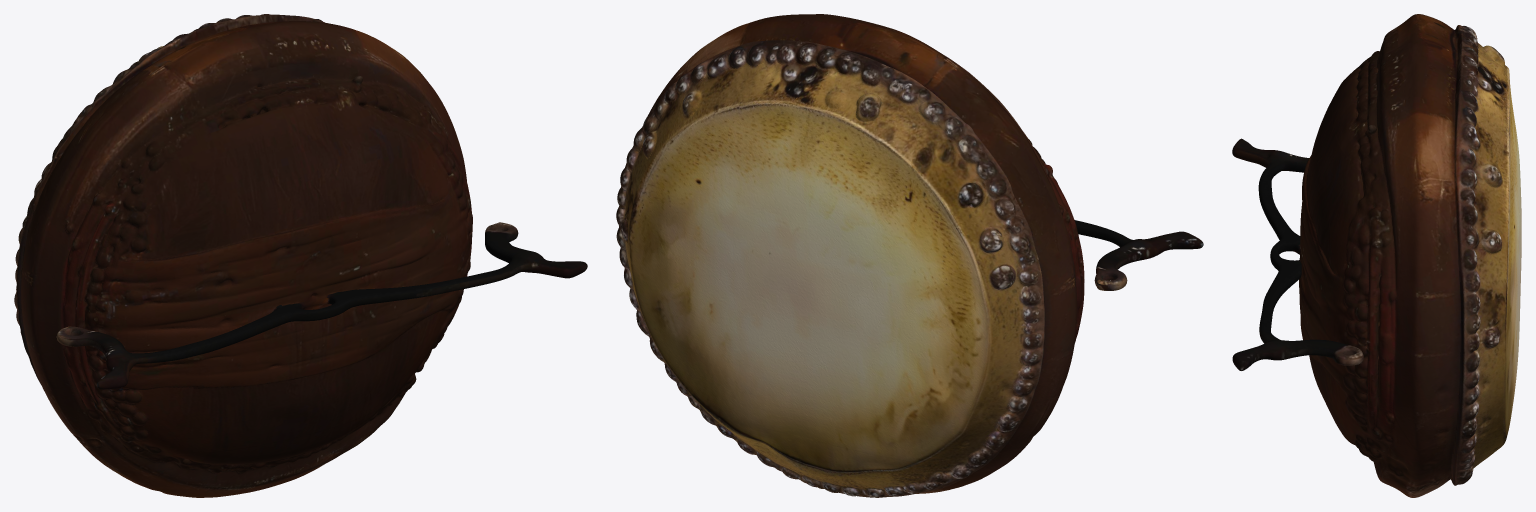
File: dongbei_dagu.glb
The picture shows the model from 3 angles, left to right: view 1: azimuth 30°, elevation 25°; view 2: azimuth 150°, elevation 25°; view 3: azimuth 270°, elevation 25°; orthographic projection. The views are drawn at different scales.
Parts seen in each view (by area): view 1: tripo_node_f9084cdf-ba02-45a2-8ce2-0f49d5d74cc7; view 2: tripo_node_f9084cdf-ba02-45a2-8ce2-0f49d5d74cc7; view 3: tripo_node_f9084cdf-ba02-45a2-8ce2-0f49d5d74cc7.
Part boxes in pixels (x1,y1,x2,y2): tripo_node_f9084cdf-ba02-45a2-8ce2-0f49d5d74cc7: (14,14,587,497); tripo_node_f9084cdf-ba02-45a2-8ce2-0f49d5d74cc7: (616,14,1203,497); tripo_node_f9084cdf-ba02-45a2-8ce2-0f49d5d74cc7: (1232,14,1521,497).
Bounding box in the file's own units: 100 × 89.28 × 53.86.
1 material, 1 textured.
